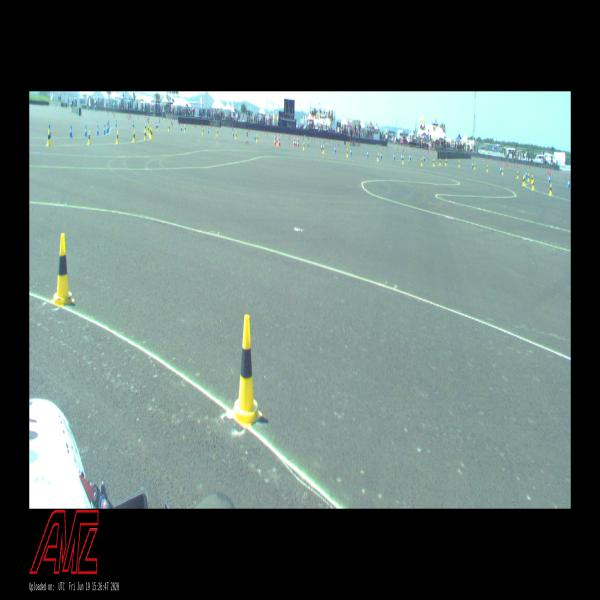blue_cone: (69, 124, 73, 138), (84, 124, 88, 138), (567, 178, 570, 189), (103, 124, 106, 135), (106, 124, 109, 134), (49, 124, 51, 138), (366, 149, 369, 158), (97, 124, 99, 136), (499, 165, 502, 173), (471, 161, 474, 169), (380, 150, 382, 160), (108, 120, 110, 130), (393, 152, 395, 161), (350, 147, 352, 156), (254, 132, 256, 141), (548, 175, 550, 183), (334, 145, 336, 153), (409, 153, 411, 161), (423, 154, 425, 162), (525, 170, 527, 178), (295, 139, 297, 147), (321, 142, 322, 151), (116, 119, 117, 128), (233, 129, 234, 138), (156, 121, 157, 130), (208, 126, 209, 134), (401, 153, 402, 161), (133, 120, 134, 128), (181, 124, 182, 131)
large_orange_cone: (278, 134, 281, 146), (274, 132, 276, 146), (297, 134, 299, 148), (294, 134, 296, 146)
yellow_cone: (230, 313, 263, 430), (51, 232, 75, 308), (46, 130, 52, 147), (87, 130, 91, 146), (132, 130, 136, 143), (116, 130, 119, 145), (531, 179, 535, 190), (549, 183, 552, 196), (144, 128, 147, 141), (527, 172, 530, 183), (522, 175, 525, 186), (346, 148, 349, 158), (420, 157, 423, 166), (516, 170, 519, 179), (322, 145, 325, 154), (147, 126, 150, 134), (377, 151, 379, 162), (151, 129, 153, 140), (531, 173, 533, 184), (402, 154, 404, 164), (144, 122, 146, 132), (150, 127, 152, 137), (216, 128, 218, 137), (235, 131, 237, 140), (458, 159, 460, 168), (168, 123, 170, 132), (433, 158, 435, 167), (256, 134, 258, 143), (445, 157, 447, 166), (486, 164, 488, 173), (474, 162, 476, 170), (202, 127, 204, 135), (303, 142, 305, 150), (439, 158, 441, 166), (502, 167, 504, 175), (184, 125, 186, 133), (157, 123, 158, 131), (277, 138, 278, 146)
